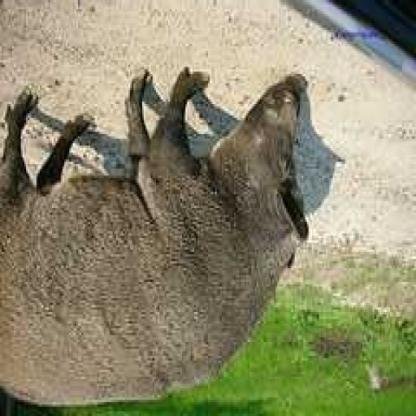boar: (0, 26, 330, 416)
